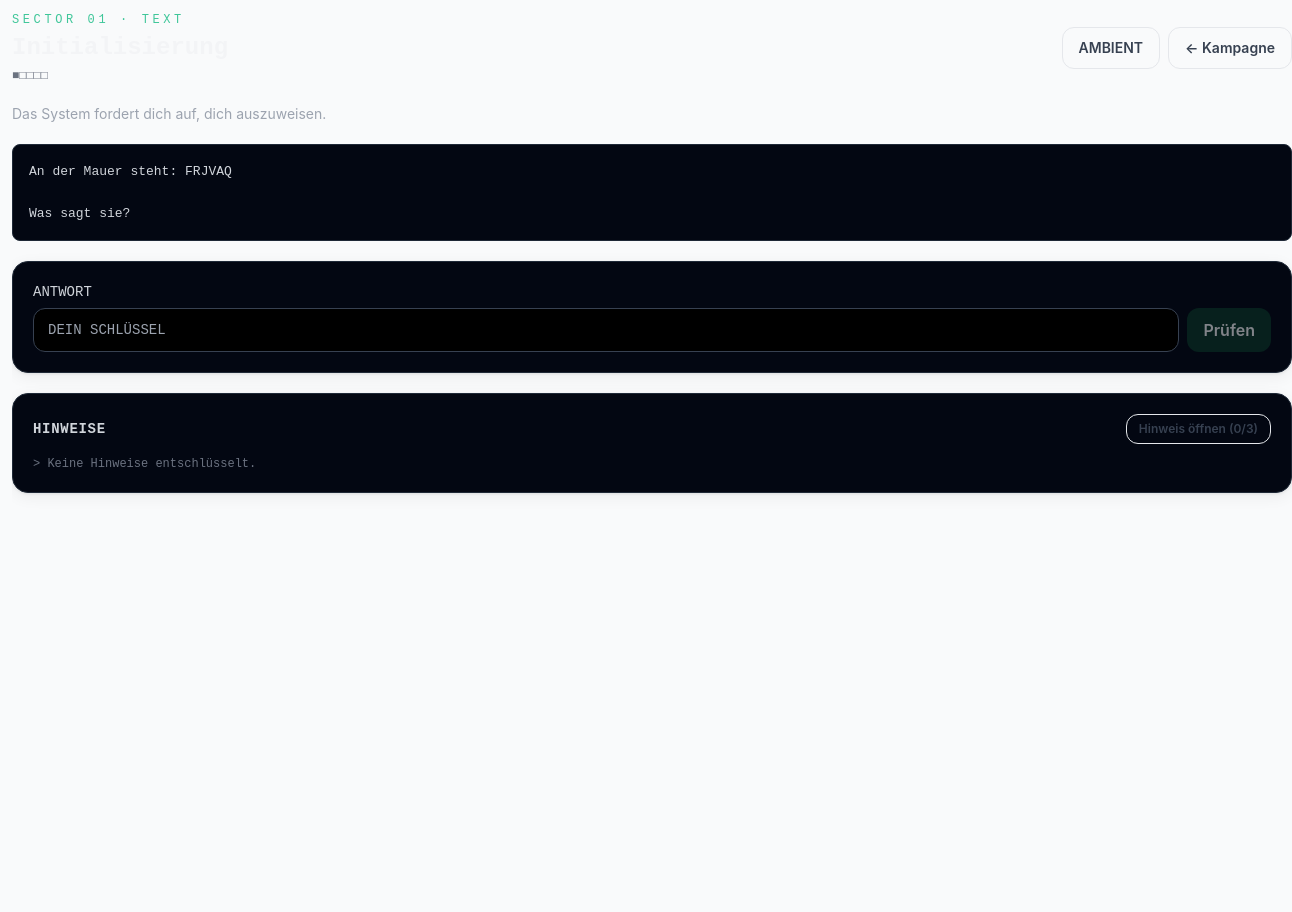
Test: LevelPage › unlocks hints one at a time
This screenshot has width=1292, height=912.
Check: the field labelled "ANTWORT" is shown, box 33,308 -> 1179,352
Click the button "Hinweis öffnen (0/3)": (1198, 429) 1126,414 -> 1271,444
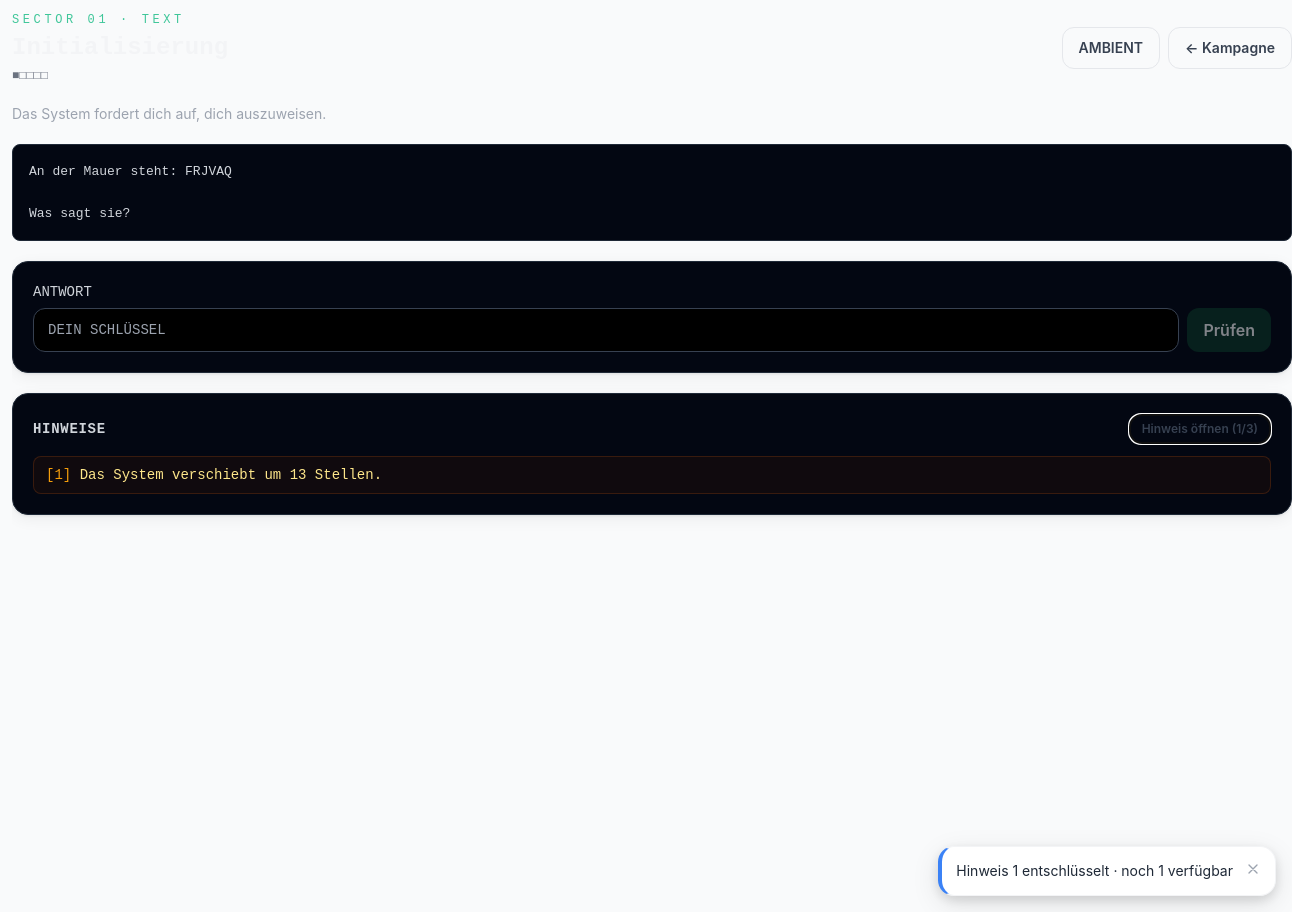
Check: the list item "[1] Das System verschiebt um 13 Stellen." is shown, box 33,456 -> 1271,494
Click the button "Hinweis öffnen (1/3)": (1200, 429) 1129,414 -> 1271,444
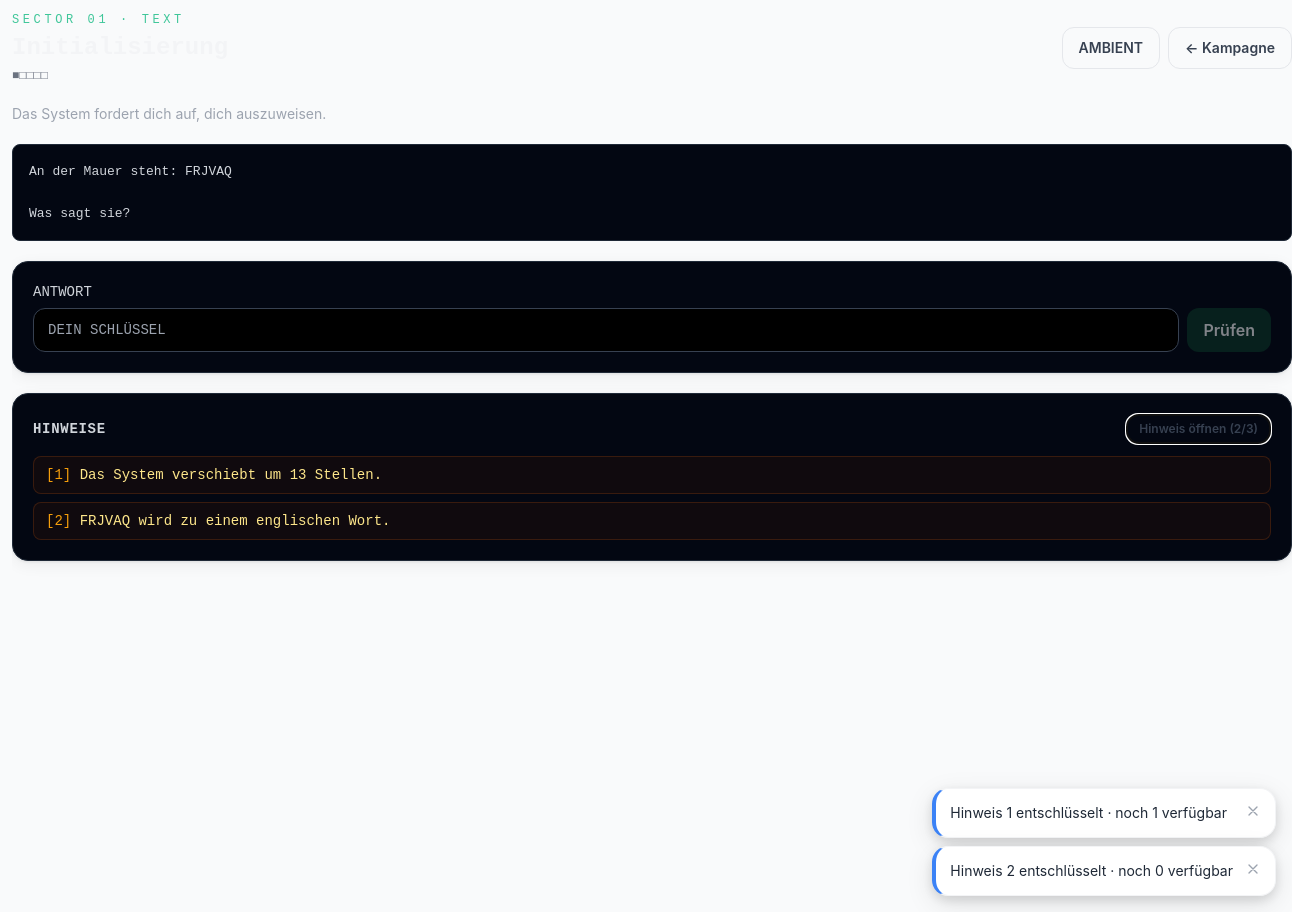
Check: the list item "[2] FRJVAQ wird zu einem englischen Wort." is shown, box 33,502 -> 1271,540
